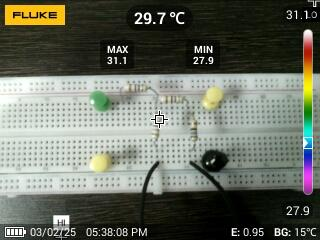resistor: (185, 117, 201, 144), (149, 114, 163, 144), (119, 82, 151, 95), (156, 93, 187, 106)
